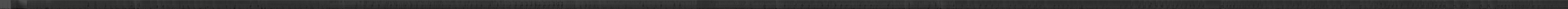Moan: (557, 0, 561, 9), (1161, 0, 1164, 9), (1202, 0, 1205, 9), (1443, 0, 1446, 9), (1466, 0, 1469, 9), (1497, 0, 1500, 9), (1504, 0, 1507, 9), (561, 0, 563, 9), (1230, 0, 1232, 9), (1233, 0, 1235, 9), (1435, 0, 1437, 9), (1439, 0, 1441, 9), (1501, 0, 1503, 9)
